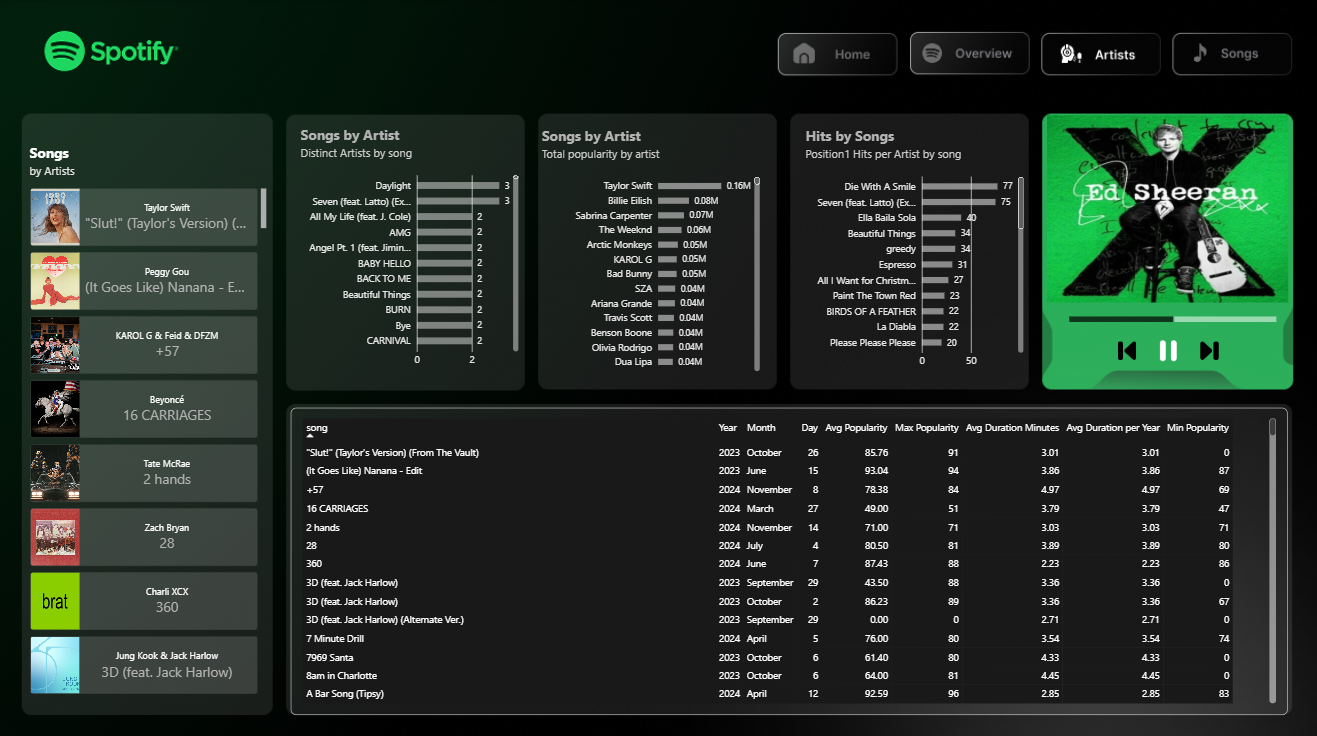

What the dashboard file says about the page in this screenshot:
{"tool":"powerbi","page":{"name":"Artist","canvas":[1920,1080],"ordinal":2},"visuals":[{"type":"actionButton","box":[1124.8,49.4,174.4,60.7],"z":0},{"type":"actionButton","box":[1318.8,49.4,174.4,60.7],"z":1000},{"type":"actionButton","box":[1506.9,49.4,174.4,60.7],"z":2000},{"type":"actionButton","box":[1700.9,51.3,174.4,60.7],"z":3000},{"type":"hundredPercentStackedBarChart","fields":{"Y":["_Measures.Avg Popularity","_Measures.Avg Popularity Explicit"]},"box":[1542.2,419.4,333.1,86.2],"z":5000},{"type":"image","box":[1622.1,496.6,40,30],"z":5001},{"type":"image","box":[1741.7,496.6,40,30],"z":5002},{"type":"image","box":[1681.9,496.6,40,30],"z":5003},{"type":"tableEx","fields":{"Values":["Top-50-world.song","Top-50-world.release_date.Variation.Date Hierarchy.Year","Top-50-world.release_date.Variation.Date Hierarchy.Month","Top-50-world.release_date.Variation.Date Hierarchy.Day","_Measures.Avg Popularity","_Measures.Max Popularity","_Measures.Avg Duration Minutes","_Measures.Avg Duration per Year","_Measures.Min Popularity"]},"box":[427.2,593.8,1448.1,446.8],"z":5005},{"type":"advancedSlicerVisual","title":"Songs ","fields":{"Values":["Top-50-world.song"]},"box":[47,209.7,344.9,809.3],"z":5006},{"type":"clusteredBarChart","title":"Songs by Artist","fields":{"Category":["Top-50-world.song"],"Y":["_Measures.Distinct Artists"]},"box":[425.2,168.5,348.8,386],"z":5007},{"type":"clusteredBarChart","title":"Hits by Songs","fields":{"Category":["Top-50-world.song"],"Y":["_Measures.Position1 Hits per Artist"]},"box":[1158.1,170.5,348.8,386],"z":5009},{"type":"image","box":[1524.6,168.5,350.8,272.4],"z":5010},{"type":"clusteredBarChart","title":"Songs by Artist","fields":{"Category":["Top-50-world.artist"],"Y":["Sum(Top-50-world.popularity)"]},"box":[776,170.5,348.8,386],"z":5011}]}

Visuals, with their boxes in screenshot pixels (x1, y1, x2, y2), scaled from the page's 1920x1080 canvas onto the 1317x736 screenshot:
actionButton: pyautogui.locateOnScreen(772, 34, 891, 75)
actionButton: pyautogui.locateOnScreen(905, 34, 1024, 75)
actionButton: pyautogui.locateOnScreen(1034, 34, 1153, 75)
actionButton: pyautogui.locateOnScreen(1167, 35, 1286, 76)
hundredPercentStackedBarChart - _Measures.Avg Popularity x _Measures.Avg Popularity Explicit: pyautogui.locateOnScreen(1058, 286, 1286, 345)
image: pyautogui.locateOnScreen(1113, 338, 1140, 359)
image: pyautogui.locateOnScreen(1195, 338, 1222, 359)
image: pyautogui.locateOnScreen(1154, 338, 1181, 359)
tableEx - Top-50-world.song x Top-50-world.release_date.Variation.Date Hierarchy.Year: pyautogui.locateOnScreen(293, 405, 1286, 709)
"Songs " advancedSlicerVisual: pyautogui.locateOnScreen(32, 143, 269, 694)
"Songs by Artist" clusteredBarChart: pyautogui.locateOnScreen(292, 115, 531, 378)
"Hits by Songs" clusteredBarChart: pyautogui.locateOnScreen(794, 116, 1034, 379)
image: pyautogui.locateOnScreen(1046, 115, 1286, 300)
"Songs by Artist" clusteredBarChart: pyautogui.locateOnScreen(532, 116, 772, 379)
